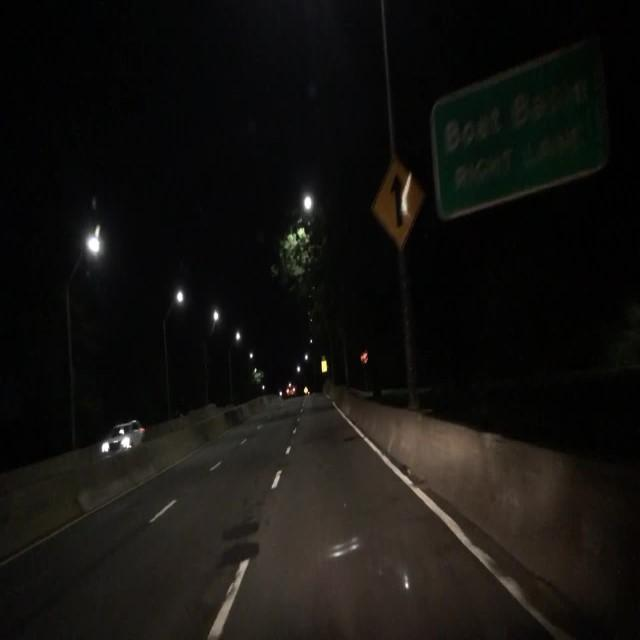normal: (89, 410, 163, 474)
